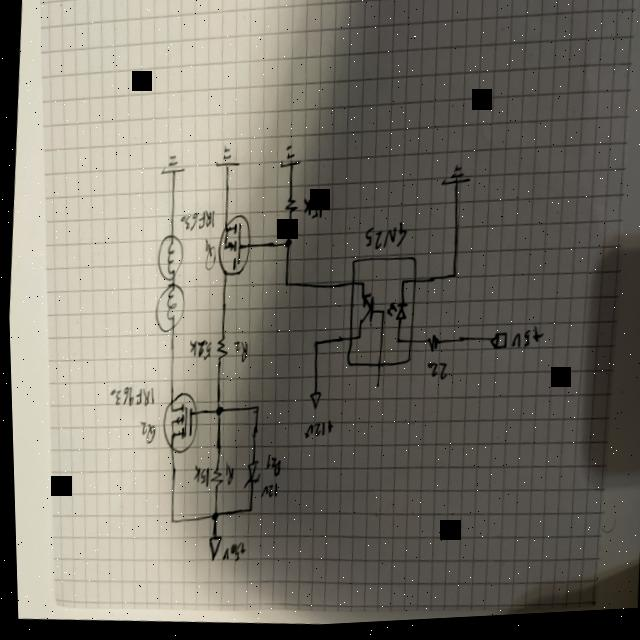diode: (239, 462, 259, 494)
ground: (439, 166, 472, 195), (156, 154, 187, 182), (213, 146, 239, 175), (278, 146, 301, 175)
junction: (281, 239, 291, 254), (212, 407, 221, 421), (208, 513, 216, 525), (449, 274, 457, 286), (281, 282, 289, 294), (310, 343, 318, 353), (244, 508, 251, 518), (251, 407, 257, 417), (166, 519, 172, 527)
resistor: (213, 339, 227, 366), (206, 469, 222, 492), (282, 199, 299, 219), (424, 339, 437, 358)
source: (485, 330, 507, 359), (203, 536, 219, 565), (305, 393, 320, 415)
terminal: (368, 382, 384, 403)
text: (362, 223, 406, 259), (106, 384, 154, 413), (508, 331, 544, 359), (178, 211, 214, 236), (301, 422, 332, 445), (186, 340, 211, 365), (218, 542, 243, 566), (300, 199, 323, 225), (135, 422, 154, 448), (201, 242, 216, 274), (261, 456, 279, 482), (424, 365, 445, 387), (230, 342, 247, 367), (189, 467, 207, 490), (257, 484, 275, 504), (220, 464, 233, 488)
transistor: (156, 391, 198, 459), (213, 214, 252, 282)
